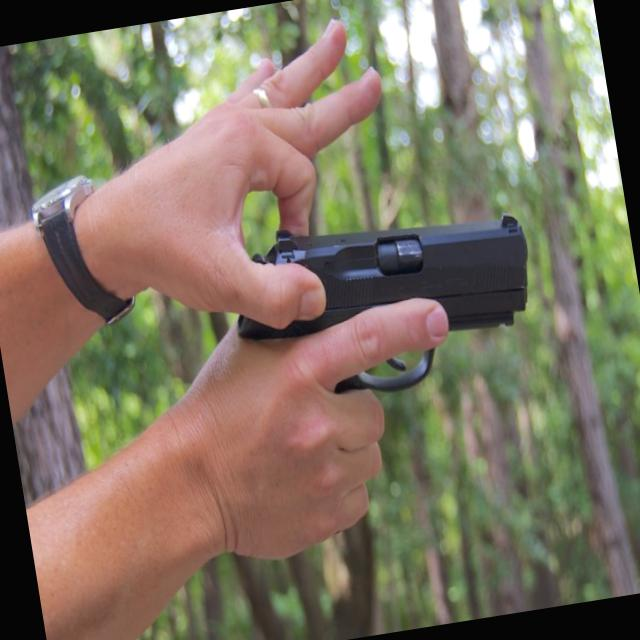handgun: (202, 188, 552, 424)
